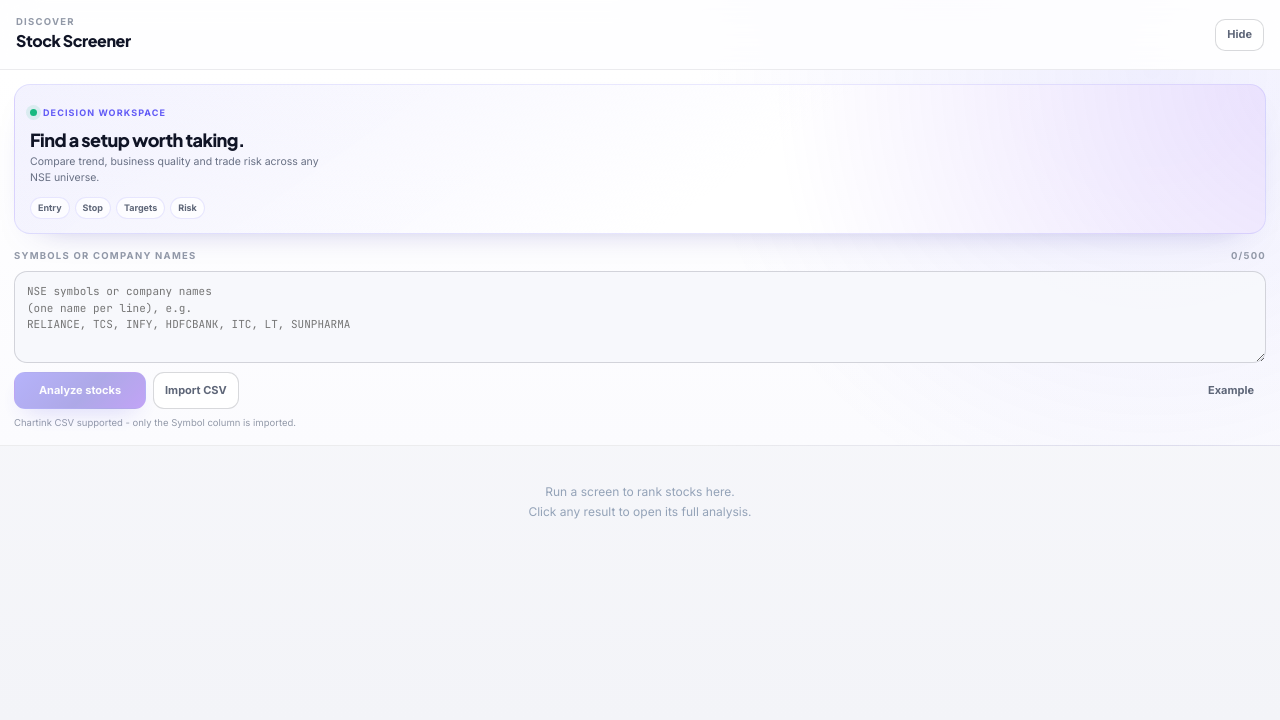
starts uppercase ticker lists without a redundant resolver request
Replace the text in the text box with "RELIANCE, TCS, INFY" at (640, 317), box 14,271 -> 1266,363
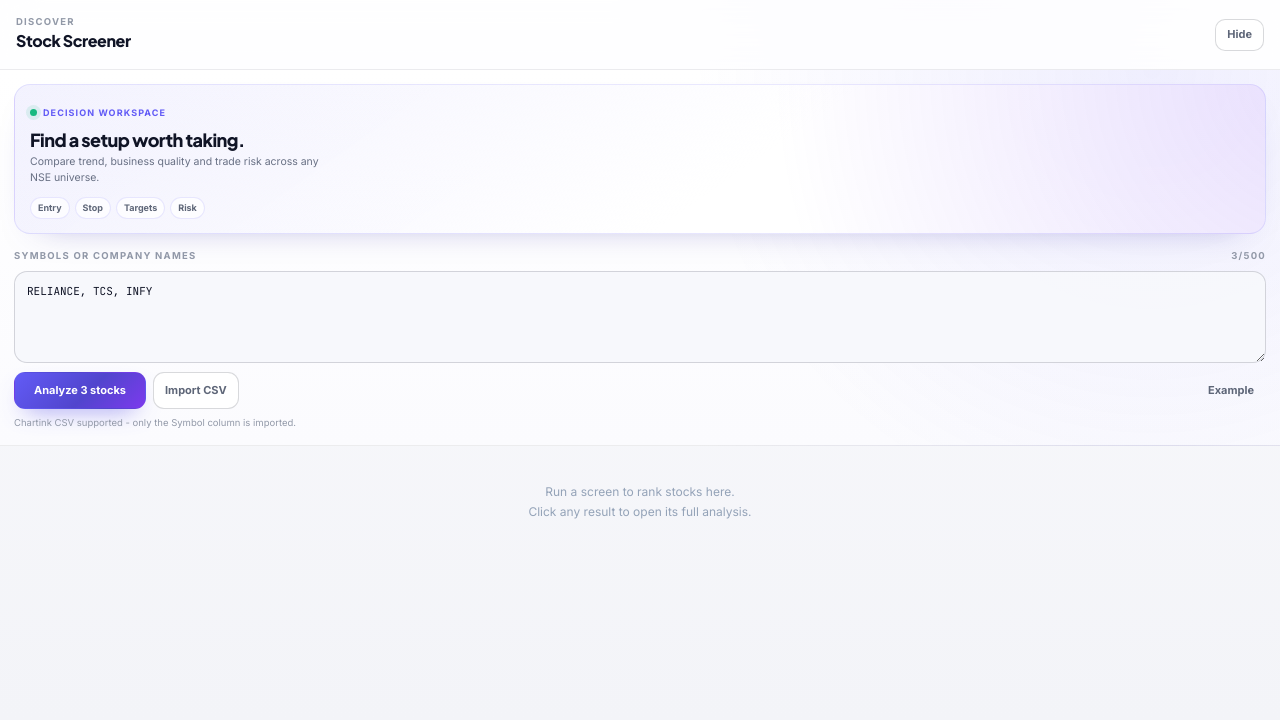
Click the button "Analyze 3 stocks" at (80, 391), box 14,372 -> 146,409
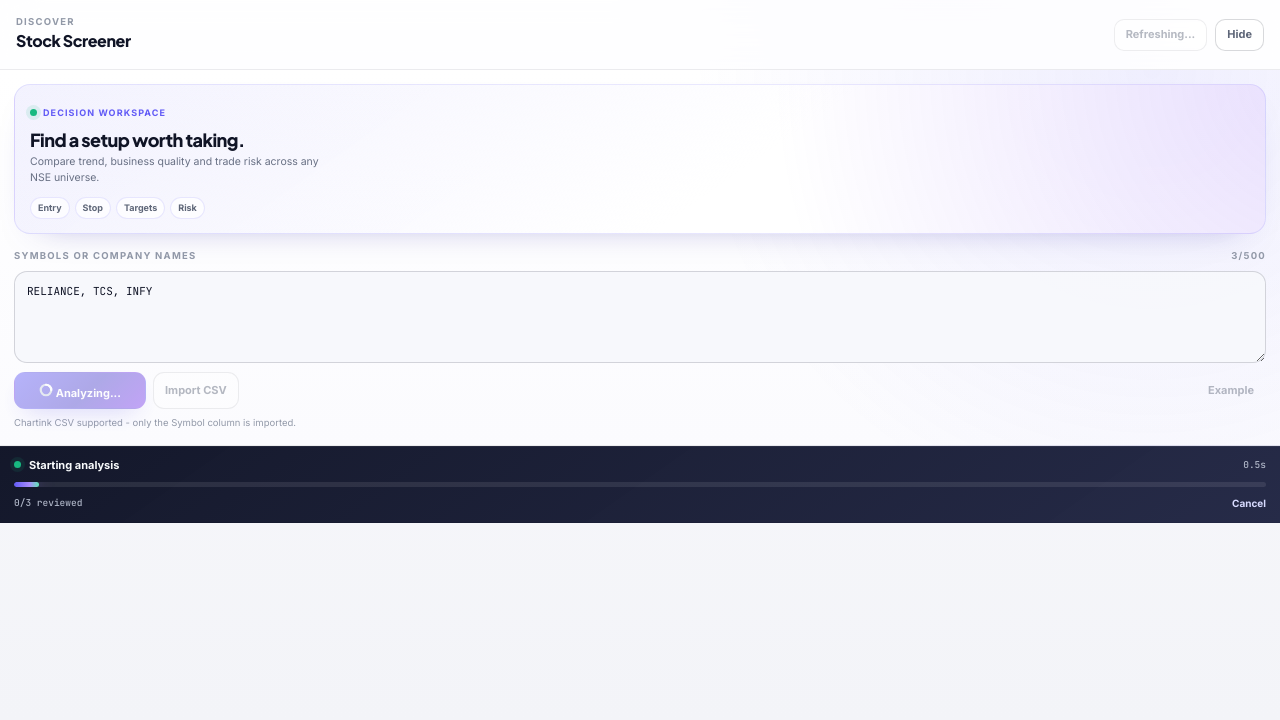
Expected: the message shows "Starting analysis", 29,458 -> 119,472
